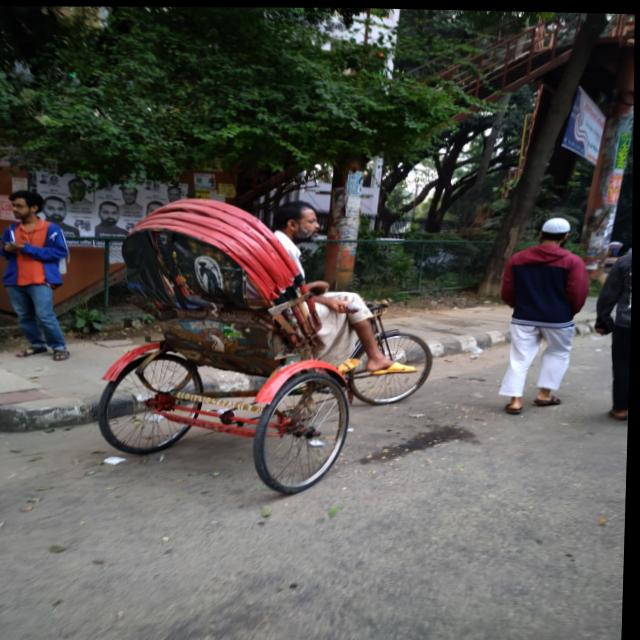rikshaw: (114, 165, 457, 520)
